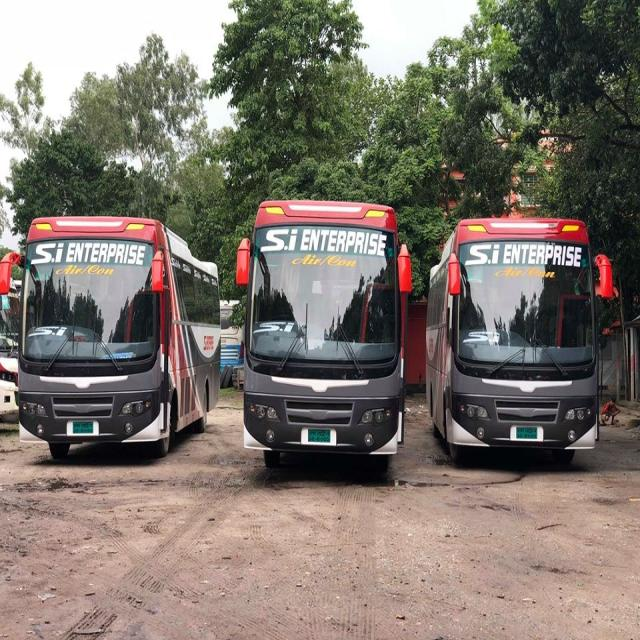bus: (0, 217, 221, 458), (235, 197, 412, 480), (425, 215, 613, 469)
